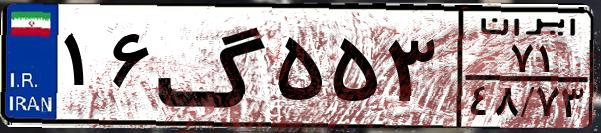1: (57, 26, 110, 100), (537, 27, 568, 80)
3: (385, 28, 445, 110), (560, 70, 590, 125)
4: (470, 70, 495, 125)
5: (270, 28, 330, 110), (330, 28, 385, 110)
6: (110, 28, 156, 98)
7: (508, 27, 537, 80), (535, 70, 560, 125)
8: (495, 70, 520, 125)
گ: (156, 12, 270, 120)
